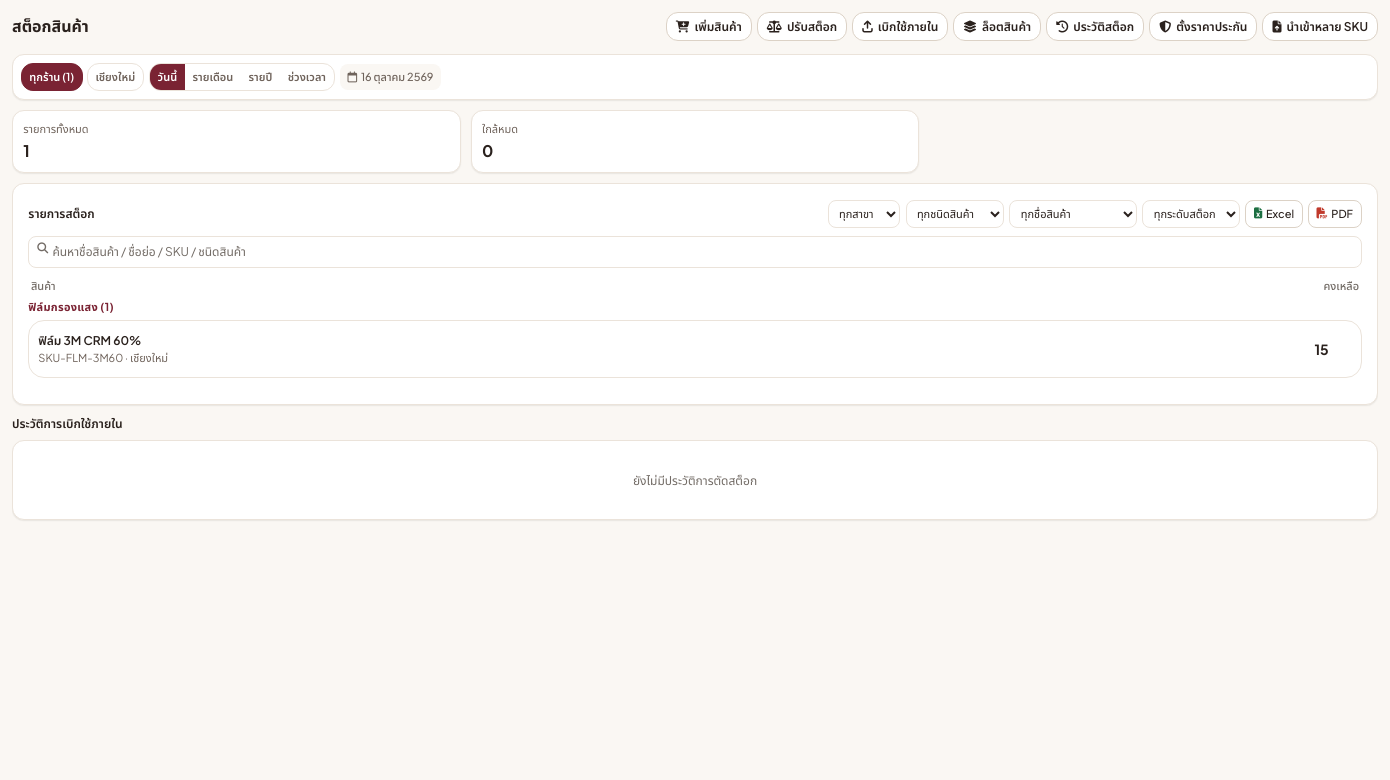
StockModule — ประวัติสต็อก › shows what each movement did, and where it left the count
The width and height of the screenshot is (1390, 780).
Click the button "ประวัติสต็อก" at point(1095, 27), box x1=1046 y1=12 x2=1144 y2=41
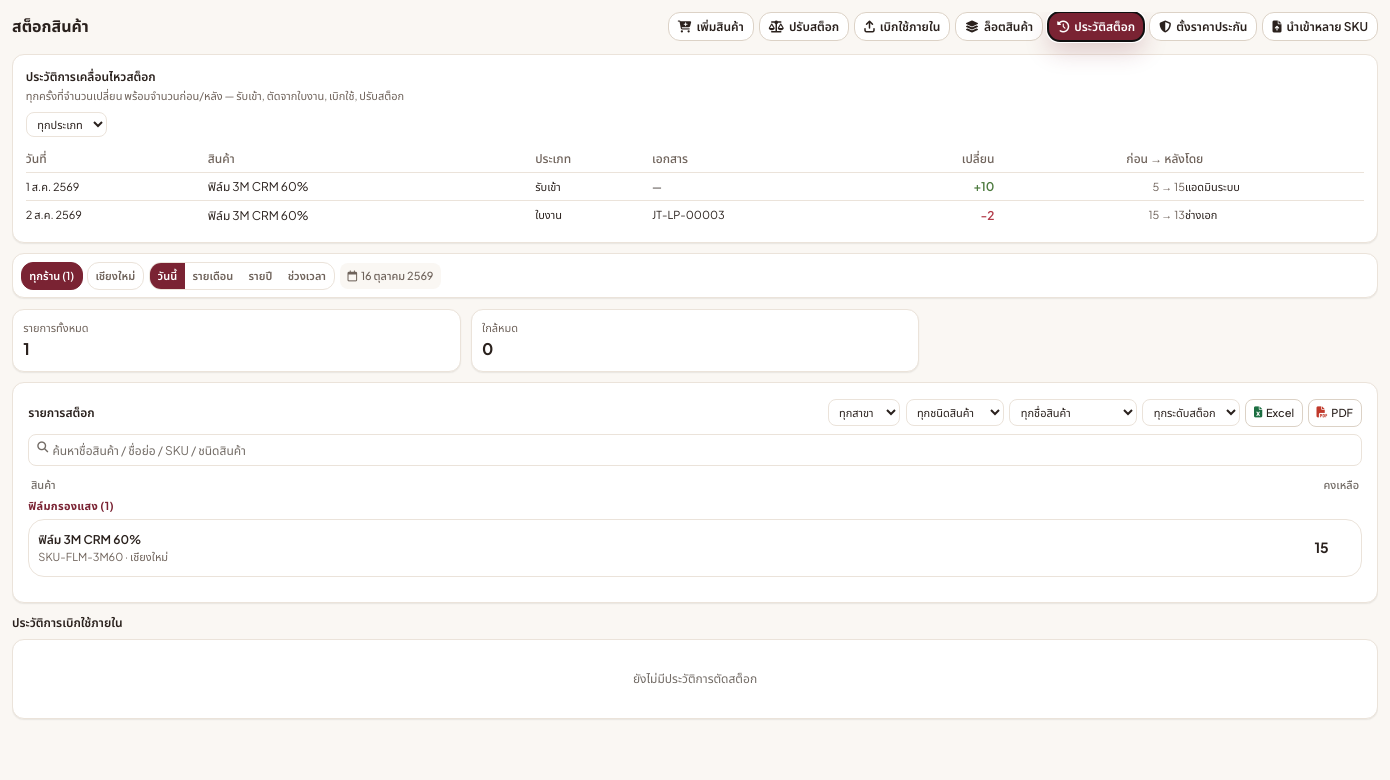
Now the text "+10" is shown, box x1=888 y1=173 x2=994 y2=201
Now the text "5 → 15" is shown, box x1=994 y1=173 x2=1185 y2=201
Now the text "JT-LP-00003" is shown, box x1=652 y1=201 x2=888 y2=229
